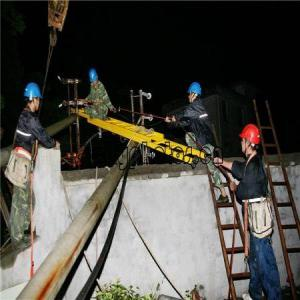blue: (25, 82, 42, 113), (189, 80, 203, 104), (90, 68, 98, 86)
red: (241, 122, 260, 158)
